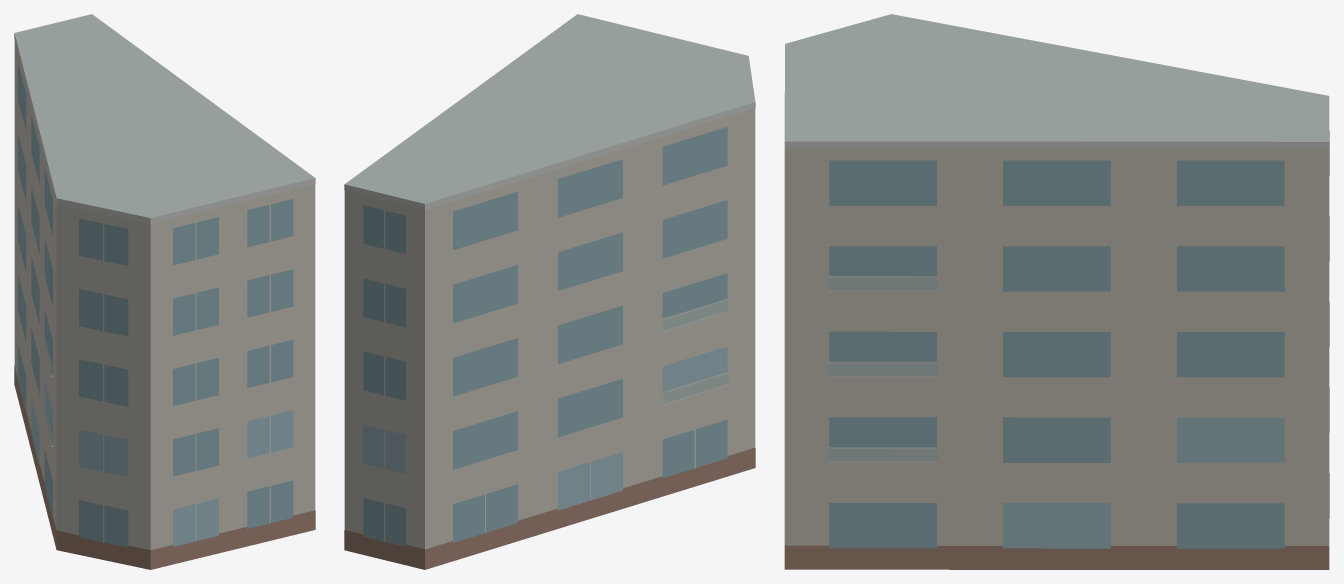
Rendered from survey-upis-32872064.glb.
The picture shows the model from 3 angles, left to right: view 1: azimuth 30°, elevation 25°; view 2: azimuth 150°, elevation 25°; view 3: azimuth 270°, elevation 25°; orthographic projection. The views are drawn at different scales.
Parts seen in each view (by area): view 1: survey-upis-32872064.tmp; view 2: survey-upis-32872064.tmp; view 3: survey-upis-32872064.tmp.
Part boxes in pixels (<box>): survey-upis-32872064.tmp: <box>14,14,315,569</box>; survey-upis-32872064.tmp: <box>344,14,755,569</box>; survey-upis-32872064.tmp: <box>784,14,1329,569</box>.
Bounding box in the file's own units: 9.25 × 14.4 × 16.62.
